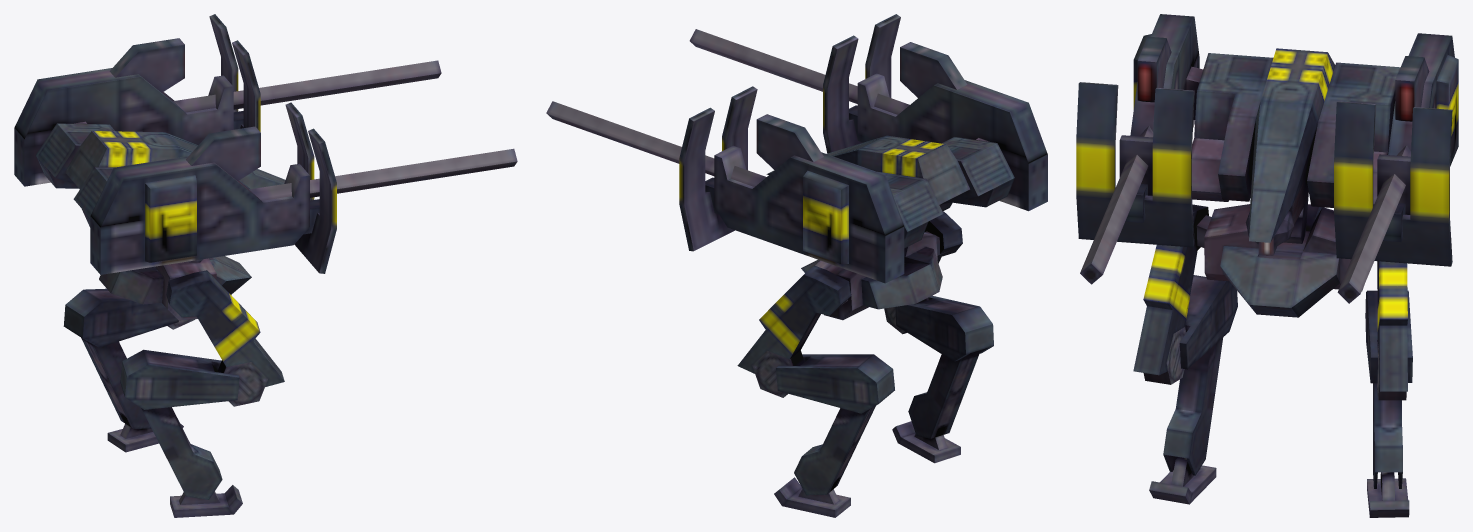
The model's file is DGZZ_enemy-rd07_ab40cb82.glb.
3 renders of one model, left to right at view 1: azimuth 30°, elevation 25°; view 2: azimuth 150°, elevation 25°; view 3: azimuth 270°, elevation 25°, orthographic. The views are drawn at different scales.
Visible parts, largest first — view 1: rd07; view 2: rd07; view 3: rd07.
Boxes of the visible parts, x1=… form: rd07: x1=14, y1=14, x2=517, y2=517; rd07: x1=546, y1=14, x2=1047, y2=517; rd07: x1=1076, y1=14, x2=1458, y2=517.
Size of the model in its own units: 1.46 by 1.28 by 0.9843.
1 material, 1 textured.
